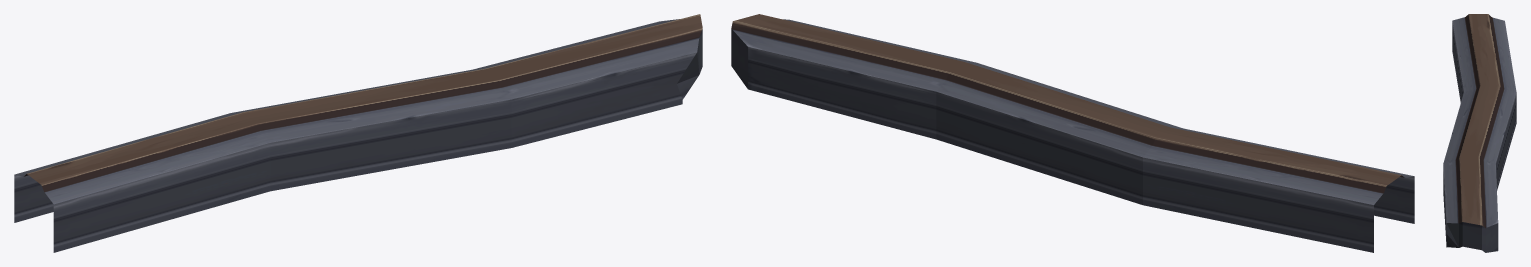
Rendered from yw_ziyuanpingtai_tiegui_003.FBX.
3 renders of one model, left to right at view 1: azimuth 30°, elevation 25°; view 2: azimuth 150°, elevation 25°; view 3: azimuth 270°, elevation 25°, orthographic. The views are drawn at different scales.
Visible parts, largest first — view 1: yw_ziyuanpingtai_tiegui_003; view 2: yw_ziyuanpingtai_tiegui_003; view 3: yw_ziyuanpingtai_tiegui_003.
Part boxes in pixels (x1=…): yw_ziyuanpingtai_tiegui_003: x1=14, y1=14, x2=702, y2=252; yw_ziyuanpingtai_tiegui_003: x1=731, y1=14, x2=1414, y2=252; yw_ziyuanpingtai_tiegui_003: x1=1443, y1=14, x2=1516, y2=252.
Size of the model in its own units: 424 by 36.04 by 61.93.
